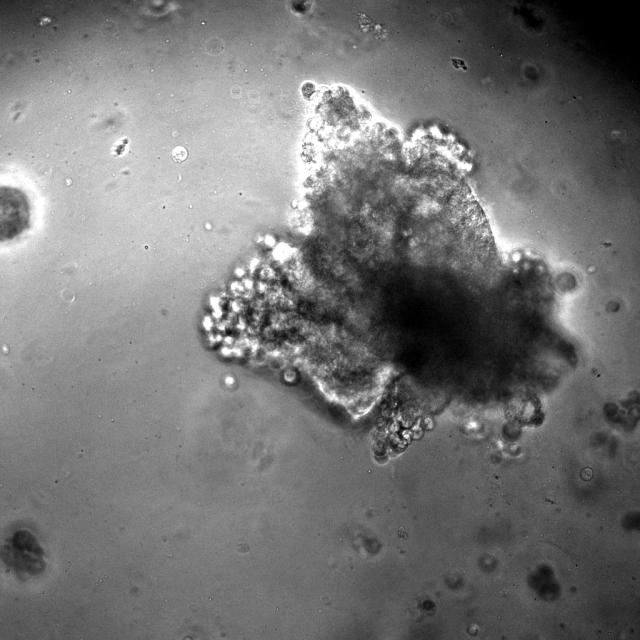organoid: (200, 82, 577, 463), (0, 525, 48, 583), (0, 185, 30, 241), (603, 391, 639, 430), (528, 564, 560, 601), (512, 2, 544, 32), (358, 13, 388, 39), (354, 532, 381, 555), (556, 272, 576, 292), (444, 570, 464, 590), (478, 553, 498, 572), (621, 511, 639, 531), (521, 63, 539, 81), (418, 598, 436, 614), (291, 0, 310, 13), (451, 58, 468, 71), (579, 467, 593, 481), (606, 299, 620, 312), (467, 624, 479, 635)
